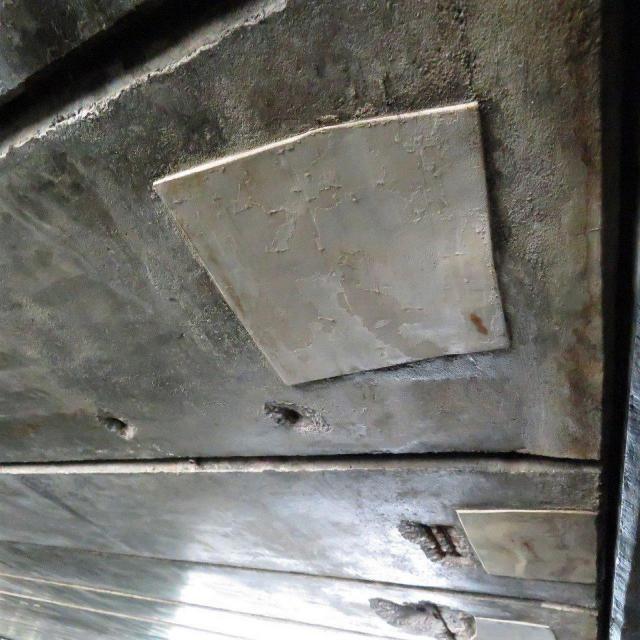Rebar: (369, 595, 477, 639), (393, 517, 473, 567)
concrete spalling: (262, 400, 332, 436), (94, 406, 138, 441)
